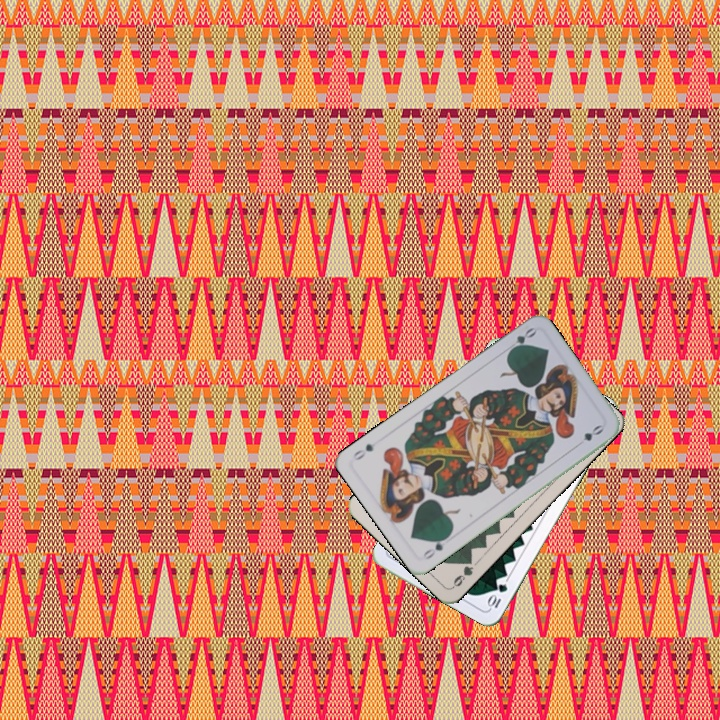G10: (484, 579, 510, 611)
G9: (449, 553, 476, 590)
GO: (502, 323, 539, 356), (418, 531, 452, 562)
